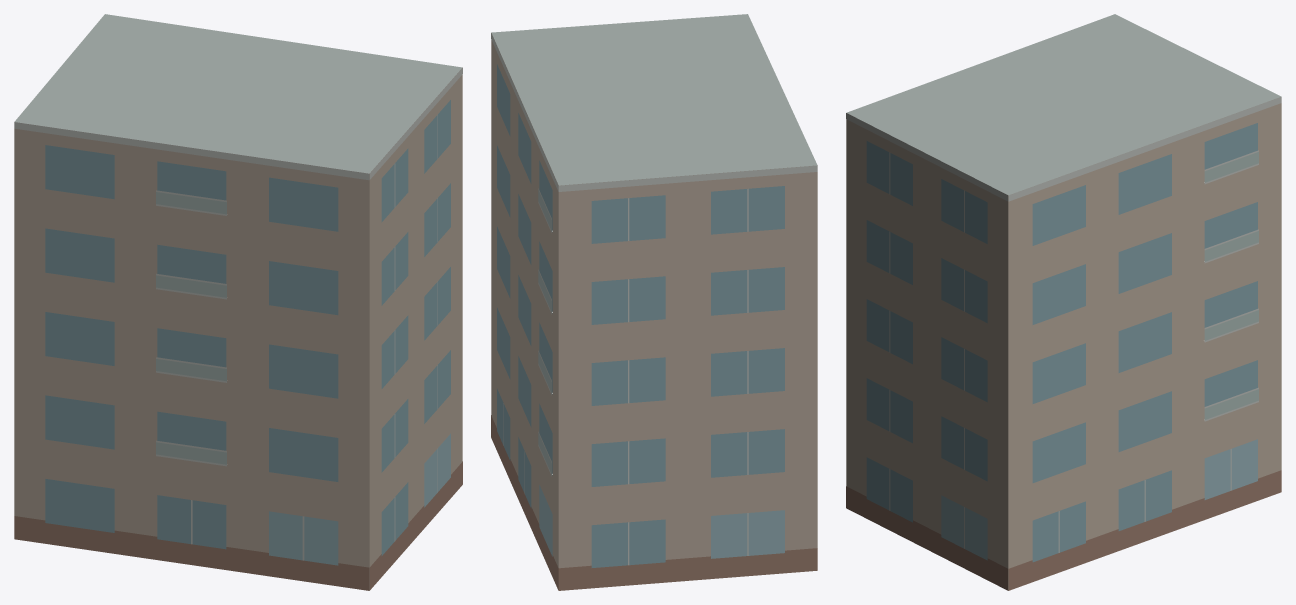
File: survey-upis-32633559.glb
3 renders of one model, left to right at view 1: azimuth 30°, elevation 25°; view 2: azimuth 150°, elevation 25°; view 3: azimuth 270°, elevation 25°, orthographic. The views are drawn at different scales.
Parts seen in each view (by area): view 1: survey-upis-32633559.tmp; view 2: survey-upis-32633559.tmp; view 3: survey-upis-32633559.tmp.
Boxes of the visible parts, box(x1,y1,x2,y2) form: survey-upis-32633559.tmp: box(14, 14, 462, 590); survey-upis-32633559.tmp: box(491, 14, 817, 590); survey-upis-32633559.tmp: box(846, 14, 1281, 590).
Bounding box in the file's own units: 15.01 × 15.25 × 15.23.
